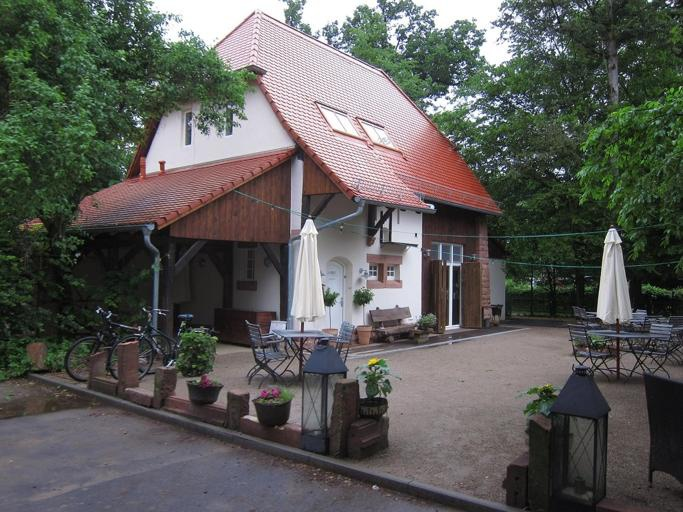non-vehicle: (105, 304, 220, 383), (65, 306, 171, 381)
